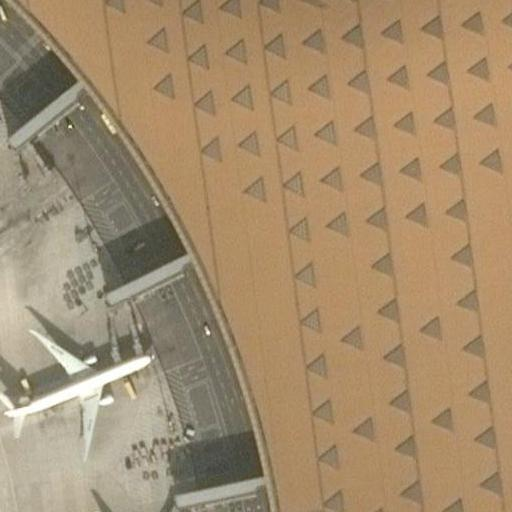Aircraft: (0, 320, 163, 453), (43, 496, 200, 512)
